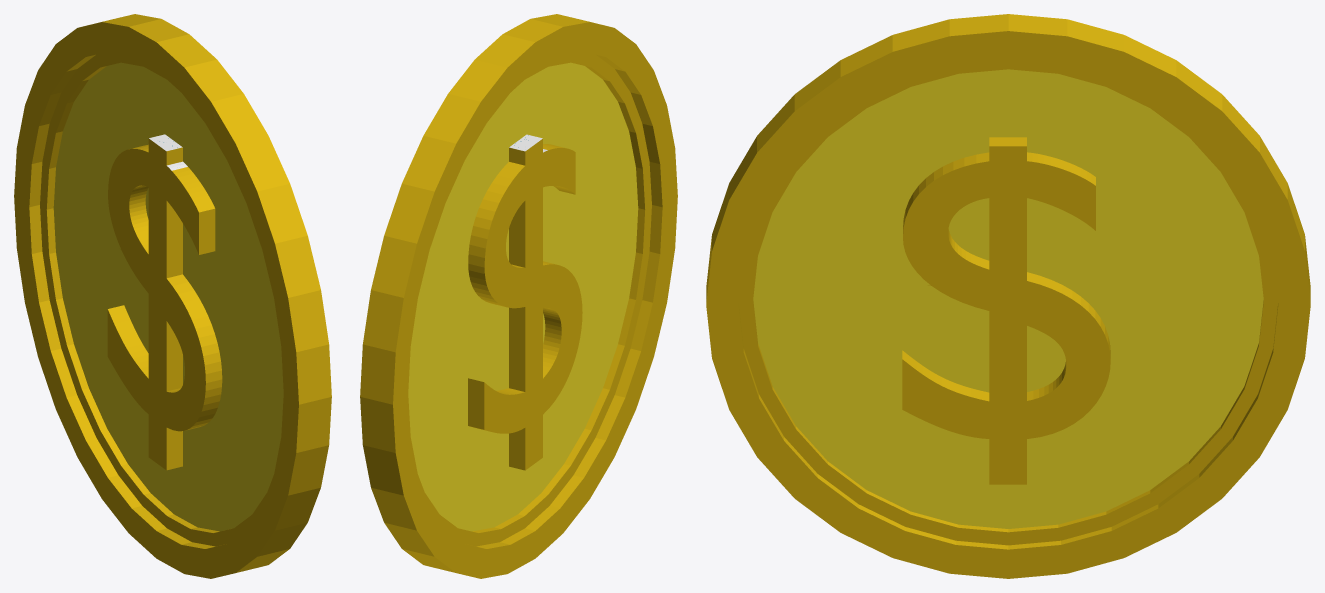
File: MonedaUnity.fbx
3 renders of one model, left to right at view 1: azimuth 30°, elevation 25°; view 2: azimuth 150°, elevation 25°; view 3: azimuth 270°, elevation 25°, orthographic. The views are drawn at different scales.
Parts seen in each view (by area): view 1: Moneda; view 2: Moneda; view 3: Moneda.
Part boxes in pixels (<box>): Moneda: <box>14,14,331,578</box>; Moneda: <box>360,14,677,578</box>; Moneda: <box>706,14,1310,578</box>.
Bounding box in the file's own units: 2.4 × 30 × 30.
1 material, 1 textured.
